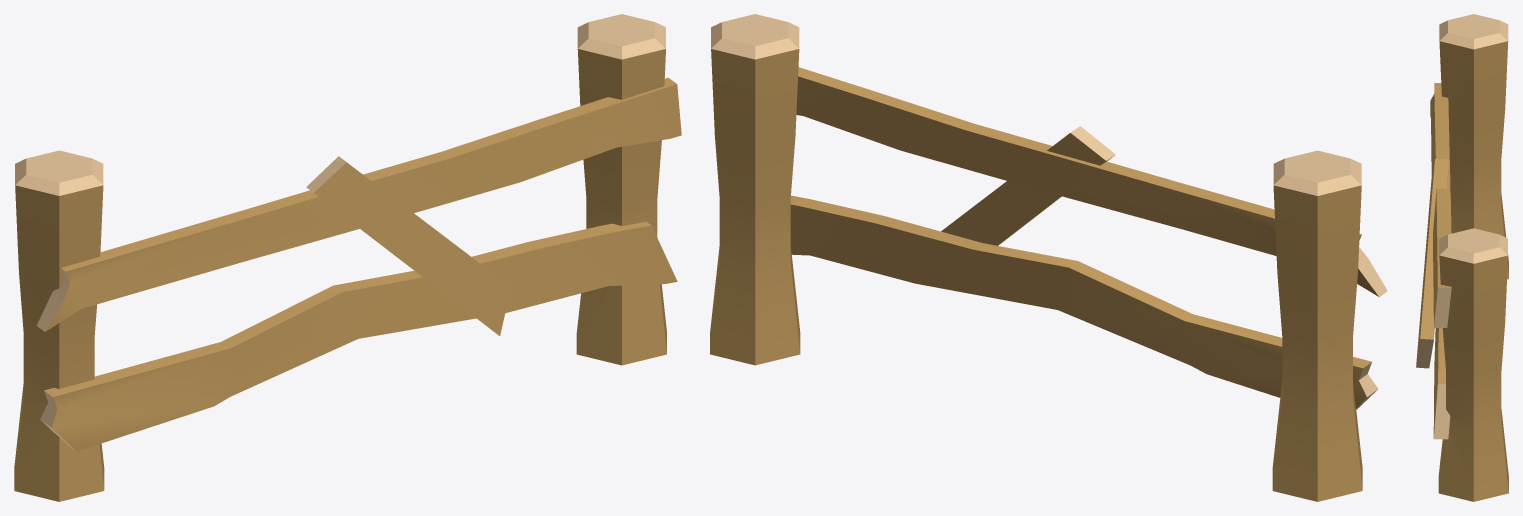
Rendered from Fence_Wooden.fbx.
3 views of the same model, side by side, from view 1: azimuth 30°, elevation 25°; view 2: azimuth 150°, elevation 25°; view 3: azimuth 270°, elevation 25° (orthographic). The views are drawn at different scales.
Parts seen in each view (by area): view 1: Fence_Wooden; view 2: Fence_Wooden; view 3: Fence_Wooden.
Boxes of the visible parts, x1,y1,x2,y2 form: Fence_Wooden: (14, 14, 681, 501); Fence_Wooden: (710, 14, 1387, 501); Fence_Wooden: (1416, 14, 1508, 501).
Size of the model in its own units: 9.11 by 4.19 by 1.44.
